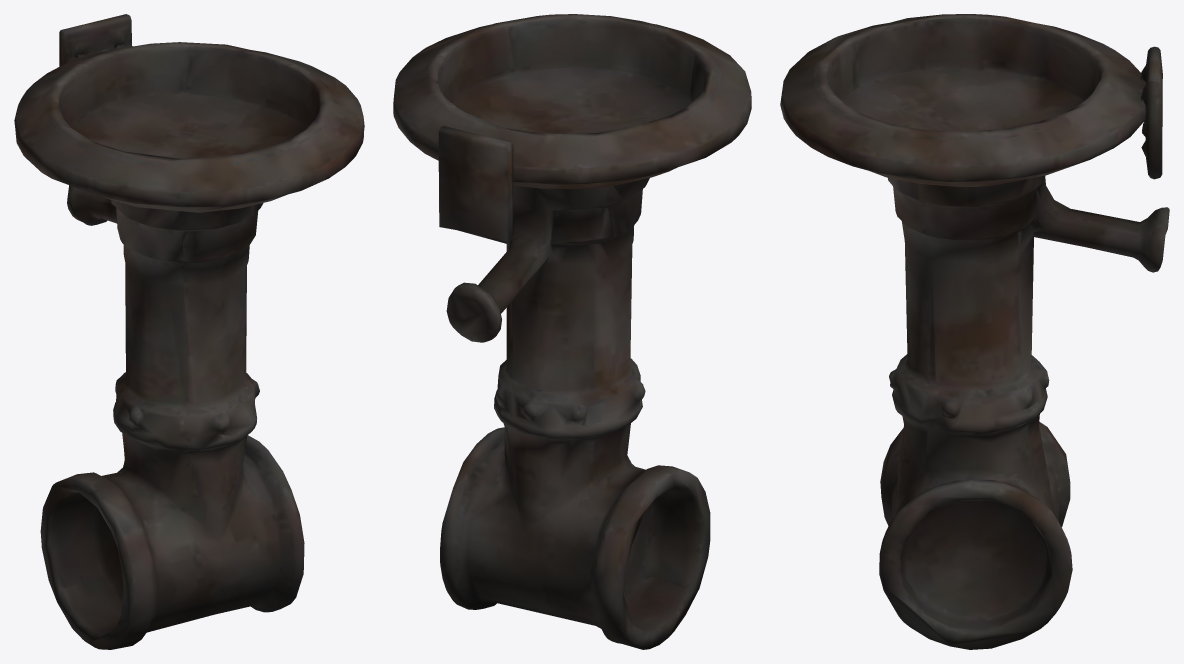
The model's file is sturdy-iron-drainpipe-v001.glb.
3 renders of one model, left to right at view 1: azimuth 30°, elevation 25°; view 2: azimuth 150°, elevation 25°; view 3: azimuth 270°, elevation 25°, orthographic. The views are drawn at different scales.
Parts seen in each view (by area): view 1: sturdy-iron-drainpipe; view 2: sturdy-iron-drainpipe; view 3: sturdy-iron-drainpipe.
Boxes of the visible parts, x1,y1,x2,y2 form: sturdy-iron-drainpipe: (14,14,364,649); sturdy-iron-drainpipe: (393,14,751,649); sturdy-iron-drainpipe: (780,14,1169,649).
Bounding box in the file's own units: 1.96 × 3.3 × 2.12.
Materials: 1 (1 with a texture image).
